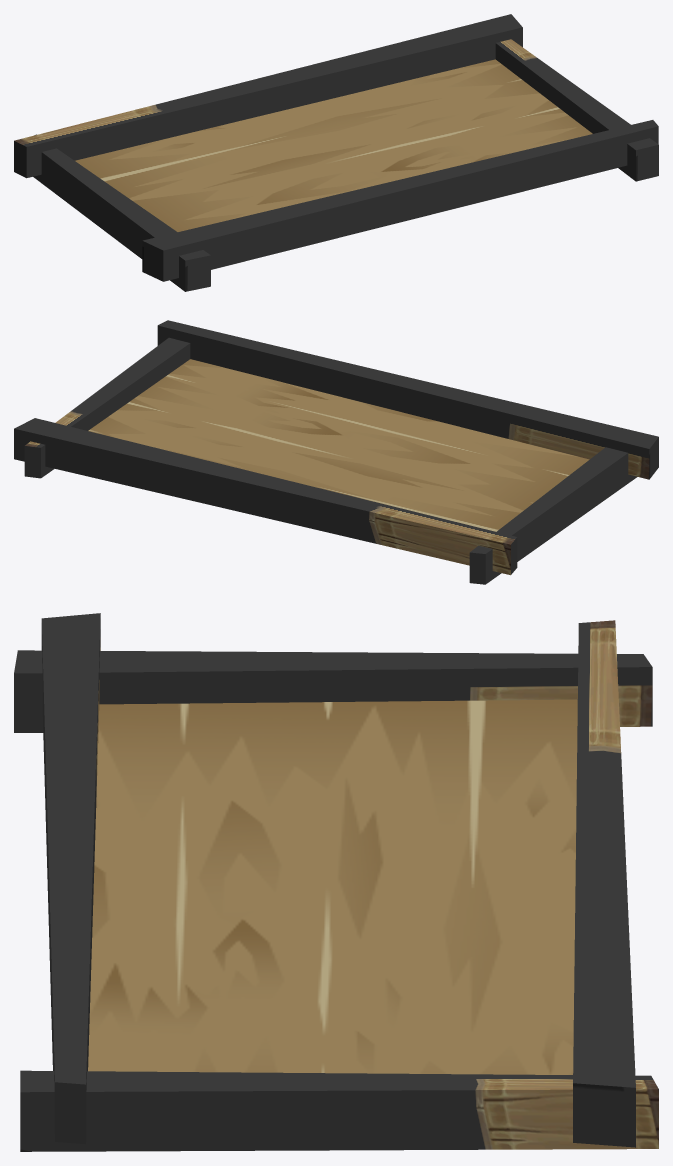
The model's file is plaque.fbx.
3 renders of one model, top to bottom at view 1: azimuth 30°, elevation 25°; view 2: azimuth 150°, elevation 25°; view 3: azimuth 270°, elevation 25°, orthographic. The views are drawn at different scales.
Parts seen in each view (by area): view 1: polySurface42; view 2: polySurface42; view 3: polySurface42.
Boxes of the visible parts, left/top/right/bottom form: polySurface42: left=14, top=14, right=658, bottom=291; polySurface42: left=14, top=320, right=658, bottom=584; polySurface42: left=14, top=613, right=658, bottom=1151.
Bounding box in the file's own units: 30.05 × 2.3 × 17.29.
